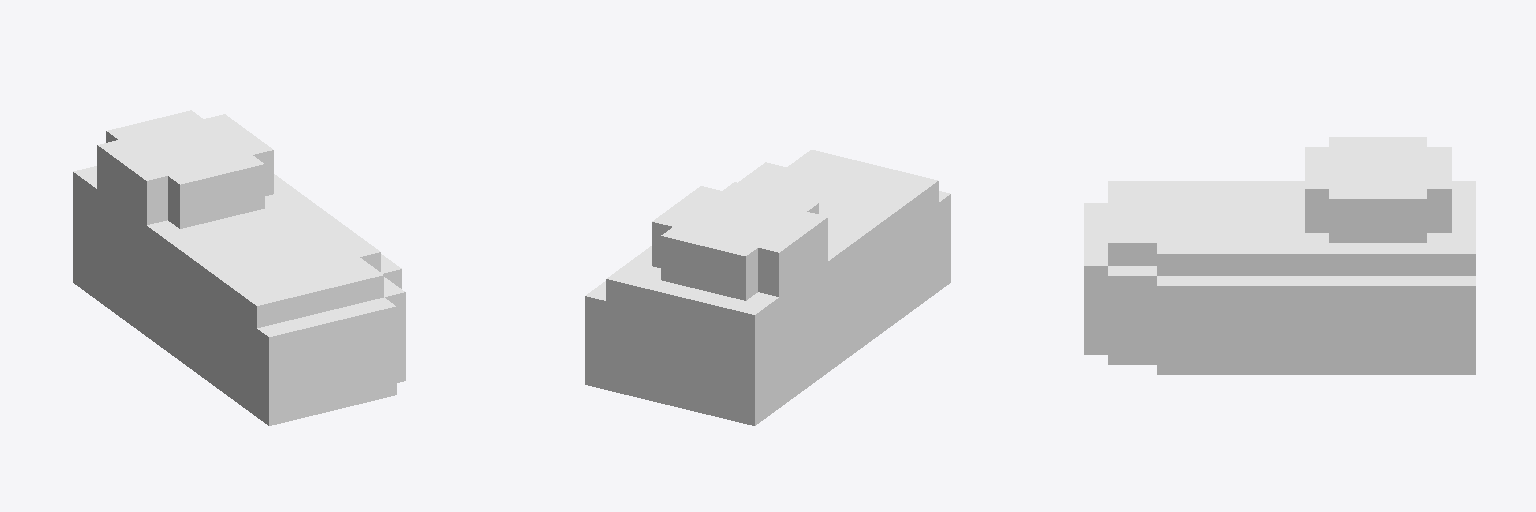
Rendered from right_foot.obj.
3 views of the same model, side by side, from view 1: azimuth 30°, elevation 25°; view 2: azimuth 150°, elevation 25°; view 3: azimuth 270°, elevation 25° (orthographic).
Size of the model in its own units: 1 by 0.875 by 2.